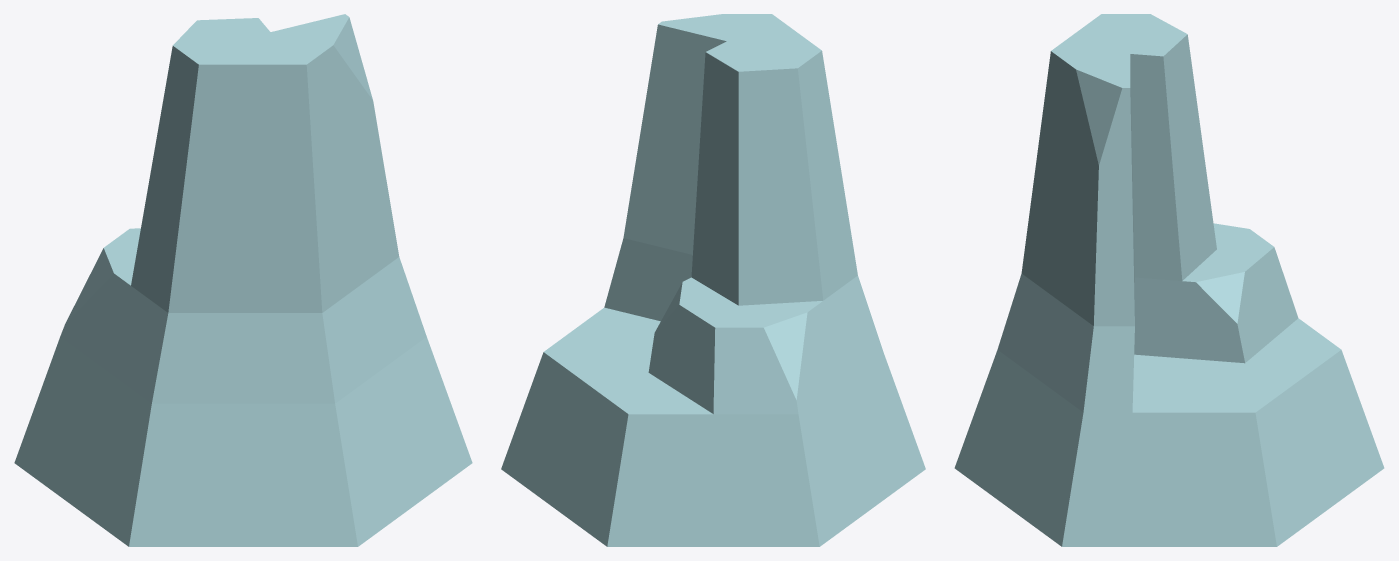
Rendered from stone_tallH.glb.
3 renders of one model, left to right at view 1: azimuth 30°, elevation 25°; view 2: azimuth 150°, elevation 25°; view 3: azimuth 270°, elevation 25°, orthographic. The views are drawn at different scales.
Parts seen in each view (by area): view 1: stone_tallH; view 2: stone_tallH; view 3: stone_tallH.
Boxes of the visible parts, x1,y1,x2,y2 form: stone_tallH: [14, 14, 472, 546]; stone_tallH: [501, 14, 925, 546]; stone_tallH: [954, 14, 1384, 546].
Bounding box in the file's own units: 0.5749 × 0.7108 × 0.6639.
